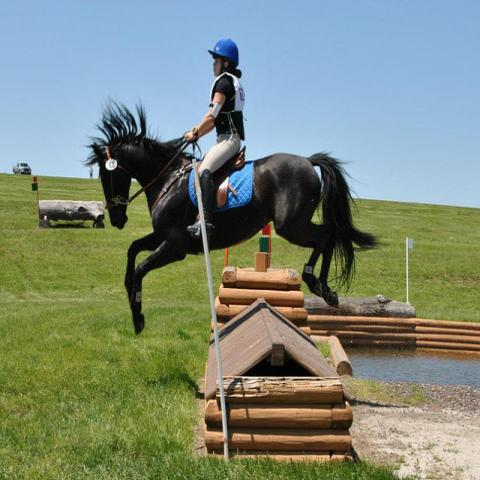truck: (13, 162, 33, 175)
